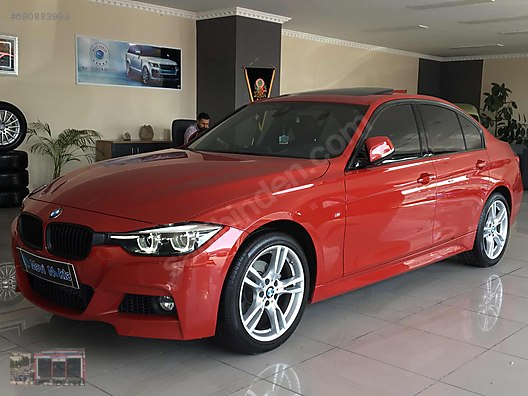bmw: (1, 78, 526, 357)
